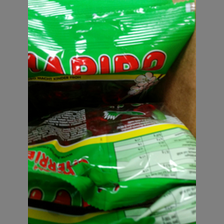candy: (28, 104, 196, 208)
